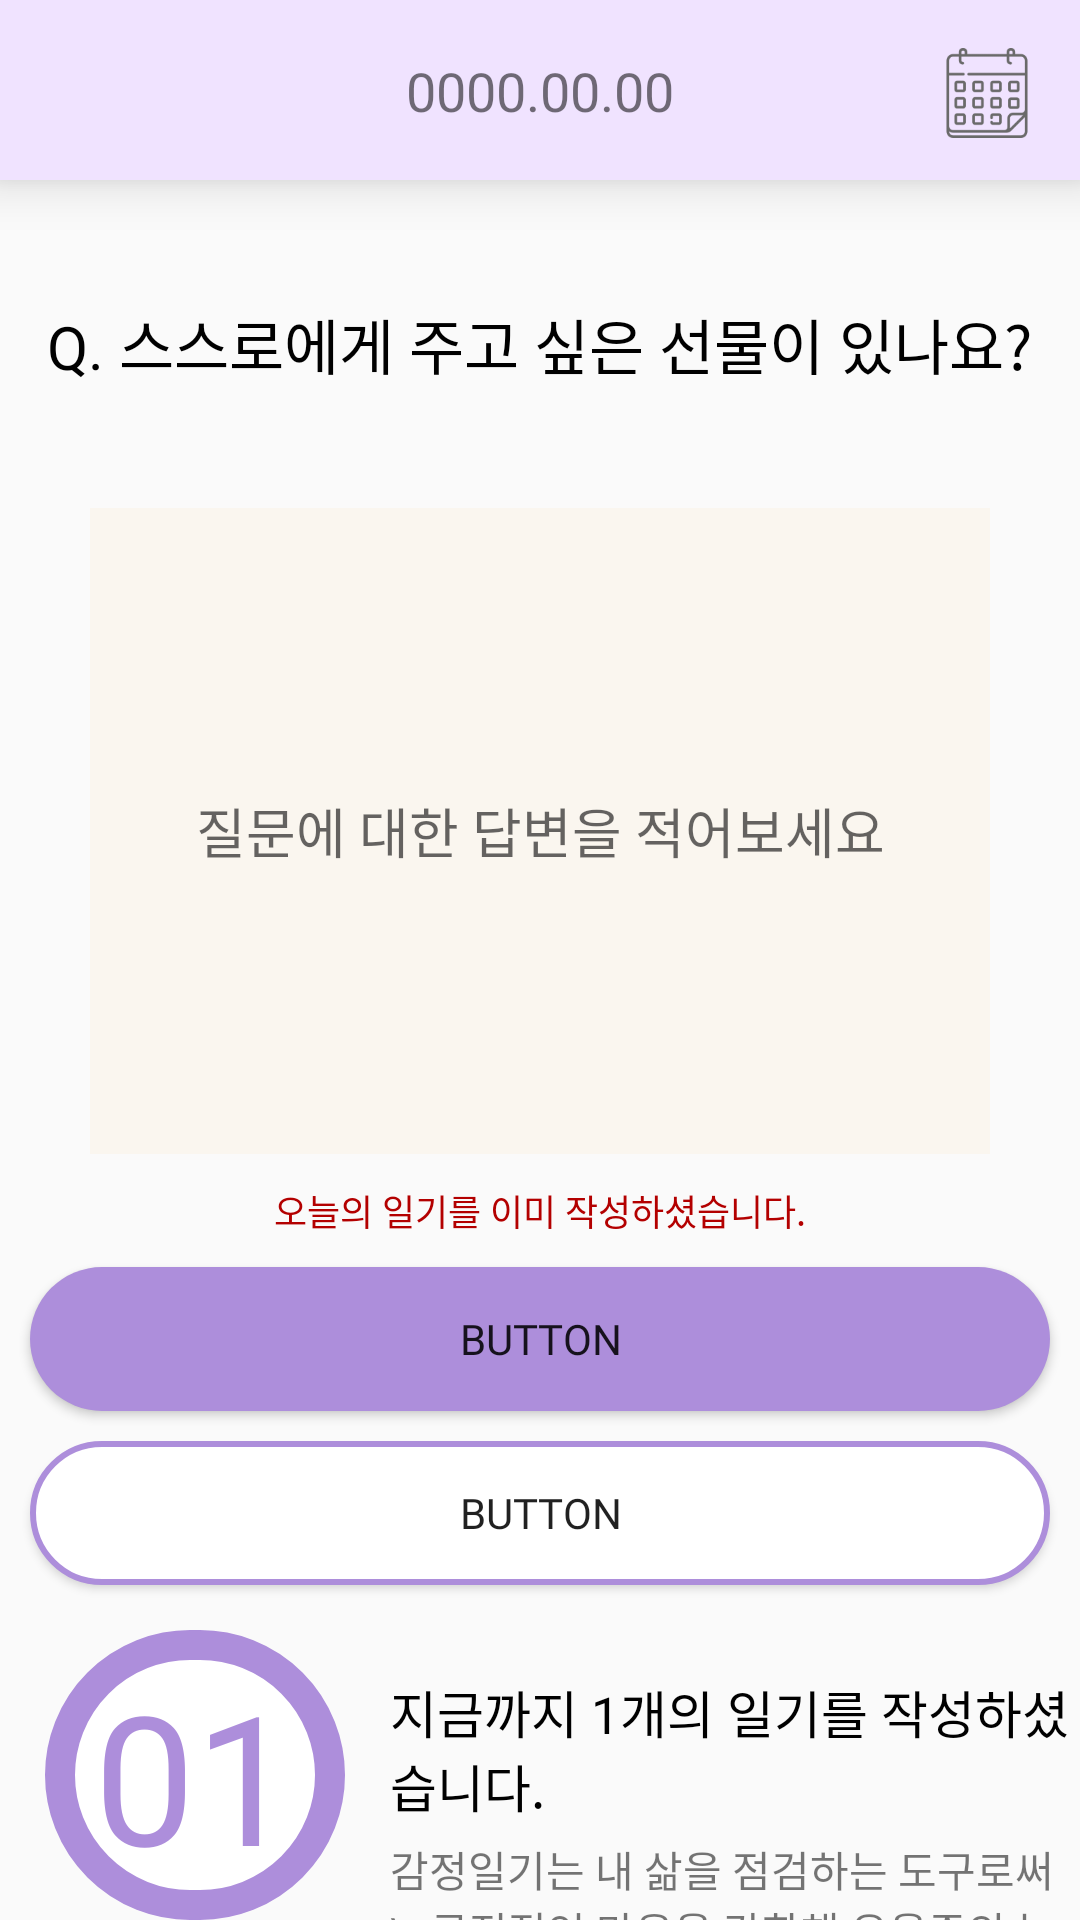

Named icons in this screenshot (1080×1920) and their centers, point (x, y):
calendar: point (987, 93)
